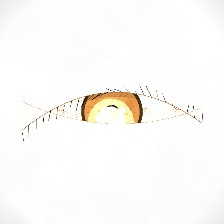corneal_ulcer: (86, 102, 135, 141)
